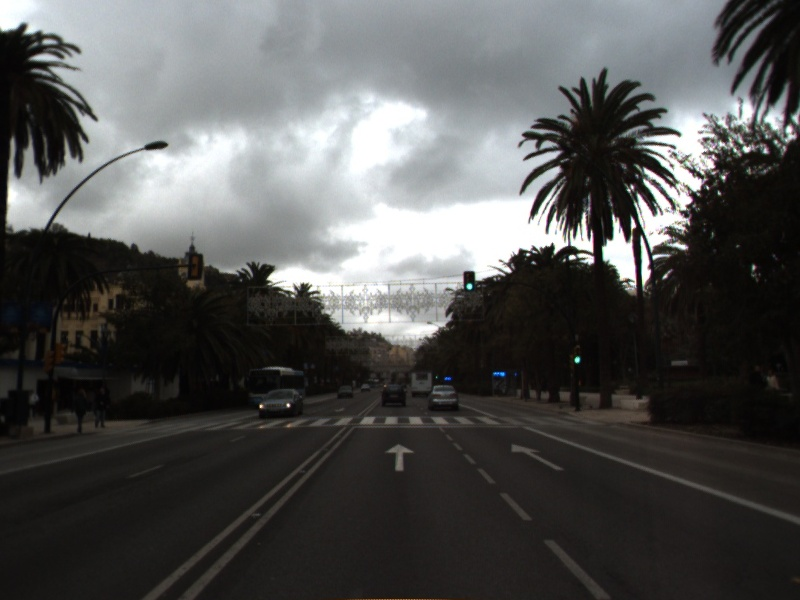STRAIGHT: (508, 441, 567, 472), (382, 441, 417, 473)
